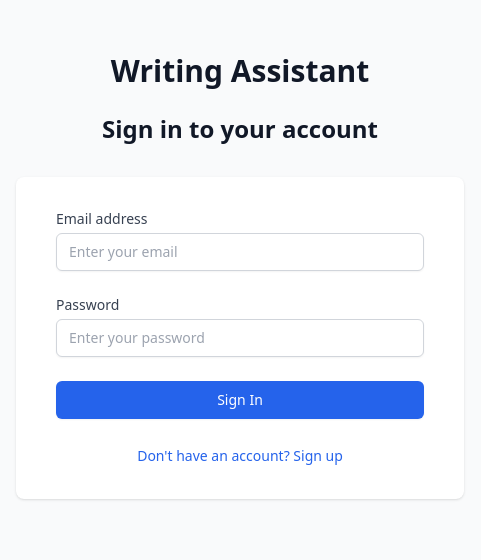
Test case: LoginPage › should toggle to sign up form
Click the button "Don't have an account? Sign up" at x=240, y=456, box [137,446,343,466]
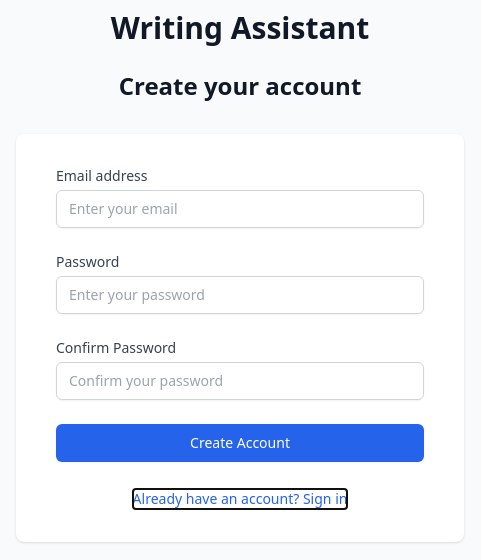
Expected: the heading "Create your account" is shown, [119,69,361,102]
Expected: the password field labelled "Confirm Password" is shown, [56,362,424,400]
Expected: the button "Create Account" is shown, [56,424,424,462]
